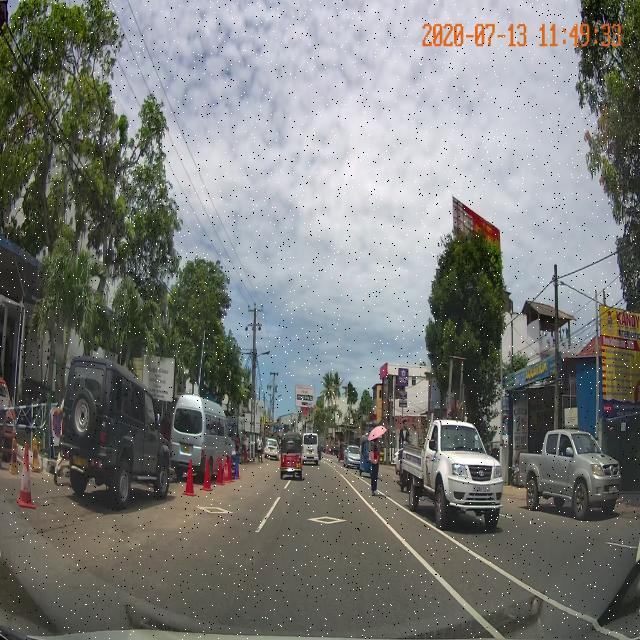diamond: (257, 507, 395, 529)
